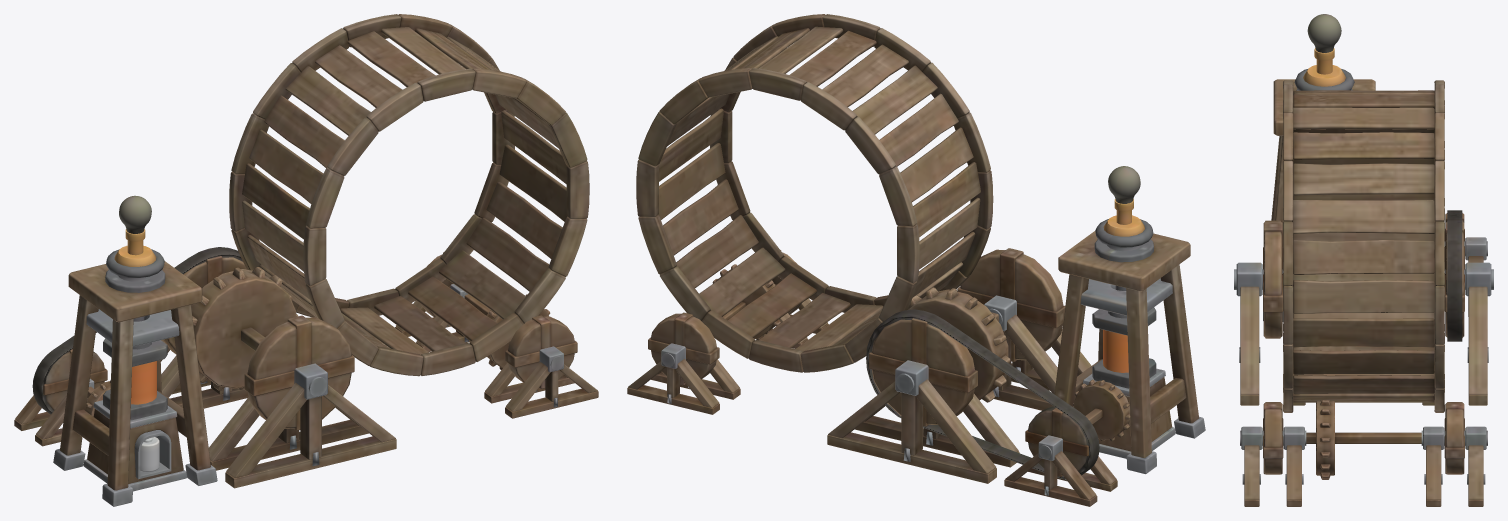
The model's file is SK_Generator_6f2e11.glb.
The picture shows the model from 3 angles, left to right: view 1: azimuth 30°, elevation 25°; view 2: azimuth 150°, elevation 25°; view 3: azimuth 270°, elevation 25°; orthographic projection. The views are drawn at different scales.
Bounding box in the file's own units: 5.68 × 3.79 × 2.57.
3 materials, 3 textured.
